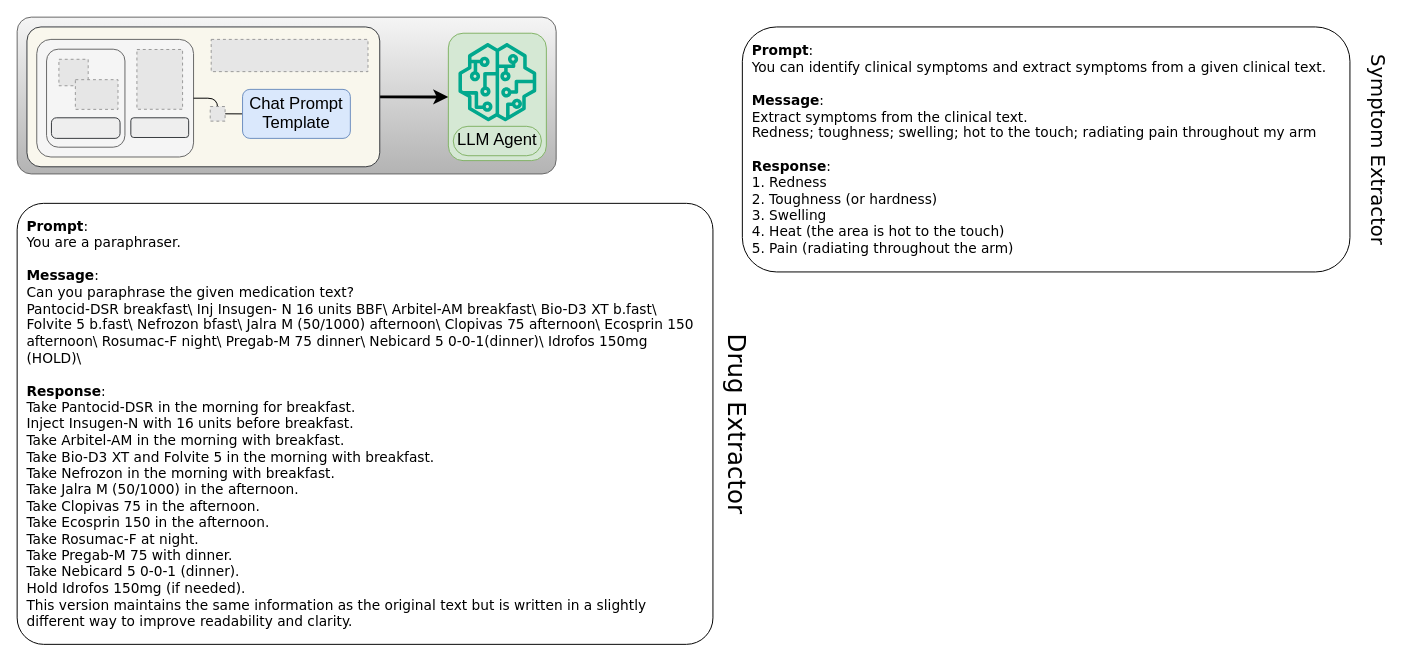
Some shapes in this 1416 by 662 pixel diagram are drawn without their labels. Grey dashed boxes stand in for pictures. Here are the shapes that lost their labels. From the top down, the centre of each, then its label:
At point 85,127: "osLLMs".
At point 159,127: "ollama".
